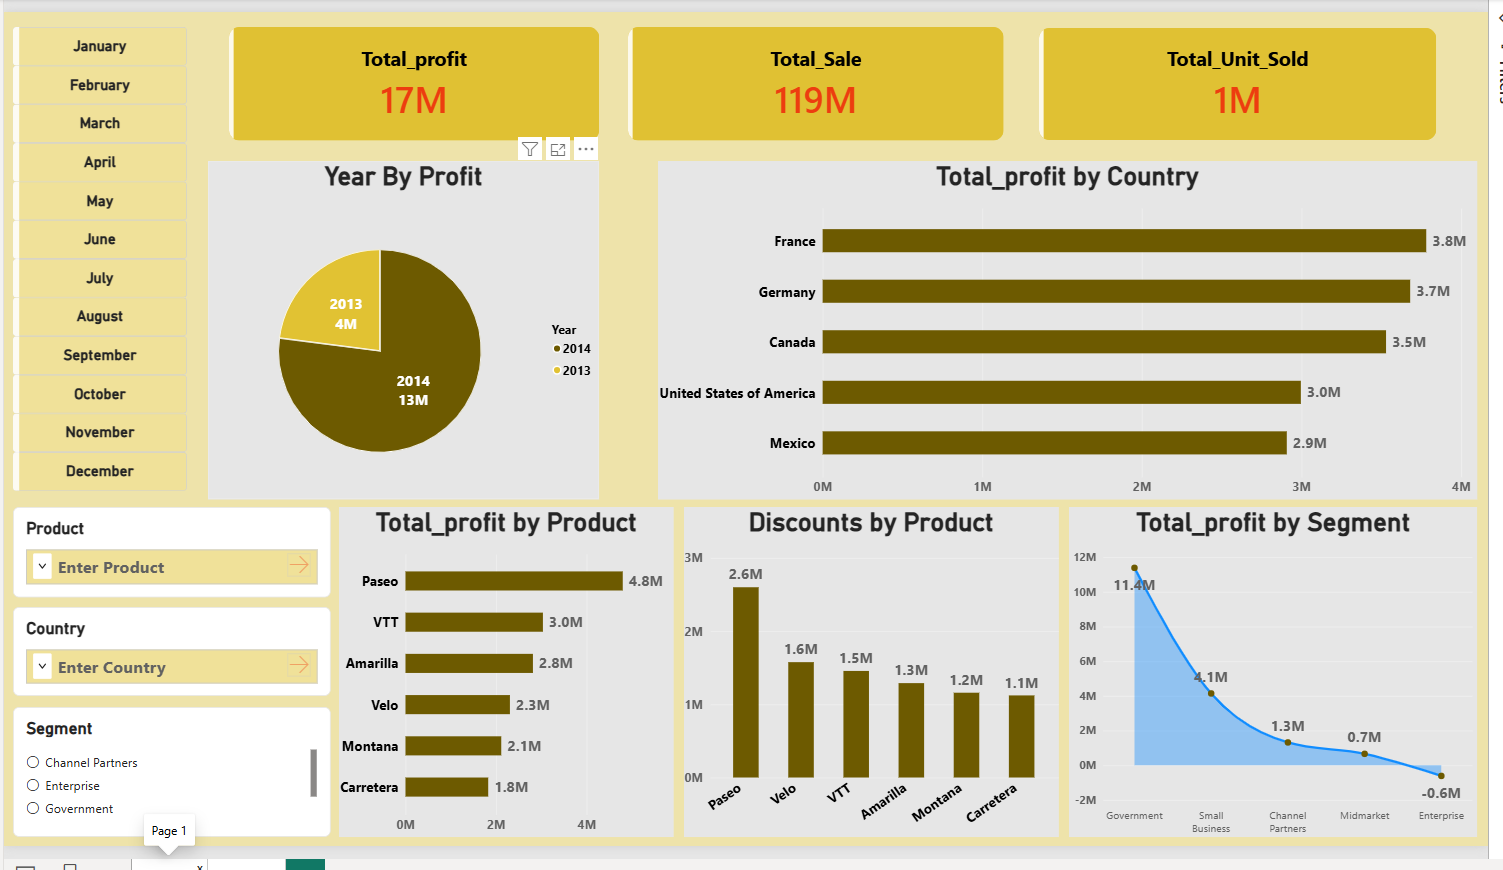

The dashboard page shown, as its layout file describes it:
{"tool":"powerbi","page":{"name":"Page 1","canvas":[1920,1080],"ordinal":0},"visuals":[{"type":"cardVisual","fields":{"Data":["Measure.Total_profit"]},"box":[291.2,19.7,479.2,147.1],"z":0},{"type":"cardVisual","fields":{"Data":["Measure.Total_Sale"]},"box":[806.8,19.7,486.8,147.1],"z":1000},{"type":"cardVisual","fields":{"Data":["Measure.Total_Unit_Sold"]},"box":[1339.1,21.2,514.1,145.6],"z":2000},{"type":"advancedSlicerVisual","fields":{"Values":["Sampledata xlsx.Date.Variation.Date Hierarchy.Month"]},"box":[12.1,19.7,226,609.7],"z":3000},{"type":"textSlicer","fields":{"Values":["Sampledata xlsx.Product"]},"box":[12.1,640,411,116.8],"z":4000},{"type":"textSlicer","fields":{"Values":["Sampledata xlsx.Country"]},"box":[12.1,770.4,411,115.3],"z":5000},{"type":"listSlicer","fields":{"Values":["Sampledata xlsx.Segment"]},"box":[12.1,899.3,411,168.3],"z":6000},{"type":"pieChart","title":"Year By Profit","fields":{"Category":["Sampledata xlsx.Year"],"Y":["Measure.Total_profit"]},"box":[263.5,192.3,505.7,437.6],"z":7000},{"type":"barChart","fields":{"Category":["Sampledata xlsx.Country"],"Y":["Measure.Total_profit"]},"box":[846.4,192.3,1059.9,437.6],"z":8000},{"type":"clusteredBarChart","fields":{"Category":["Sampledata xlsx.Product"],"Y":["Measure.Total_profit"]},"box":[433.1,640.5,433.1,427],"z":9000},{"type":"clusteredColumnChart","fields":{"Category":["Sampledata xlsx.Product"],"Y":["Sum(Sampledata xlsx.Discounts)"]},"box":[879.7,640.5,484.5,427],"z":10000},{"type":"areaChart","fields":{"Category":["Sampledata xlsx.Segment"],"Y":["Measure.Total_profit"]},"box":[1377.9,640.5,528.5,427],"z":11000}]}

Visuals, with their boxes on the page's 1920x1080 design canvas (x1, y1, x2, y2). These are canvas units, not pixel positions in the 1503x870 screenshot, which may show the page scaled, cropped or inside an application window:
cardVisual - Measure.Total_profit: 291/20/770/167
cardVisual - Measure.Total_Sale: 807/20/1294/167
cardVisual - Measure.Total_Unit_Sold: 1339/21/1853/167
advancedSlicerVisual - Sampledata xlsx.Date.Variation.Date Hierarchy.Month: 12/20/238/629
textSlicer - Sampledata xlsx.Product: 12/640/423/757
textSlicer - Sampledata xlsx.Country: 12/770/423/886
listSlicer - Sampledata xlsx.Segment: 12/899/423/1068
"Year By Profit" pieChart: 264/192/769/630
barChart - Sampledata xlsx.Country x Measure.Total_profit: 846/192/1906/630
clusteredBarChart - Sampledata xlsx.Product x Measure.Total_profit: 433/640/866/1068
clusteredColumnChart - Sampledata xlsx.Product x Sum(Sampledata xlsx.Discounts): 880/640/1364/1068
areaChart - Sampledata xlsx.Segment x Measure.Total_profit: 1378/640/1906/1068
